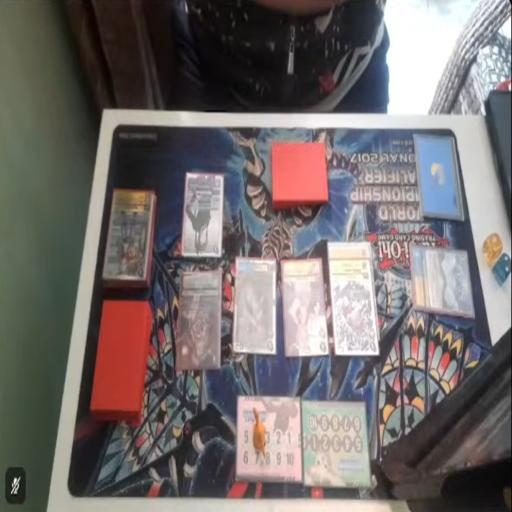card: (408, 242, 476, 324), (174, 268, 224, 376), (100, 192, 153, 284), (330, 257, 378, 358), (230, 255, 276, 358), (282, 253, 324, 360), (181, 169, 225, 260), (328, 237, 372, 258)
